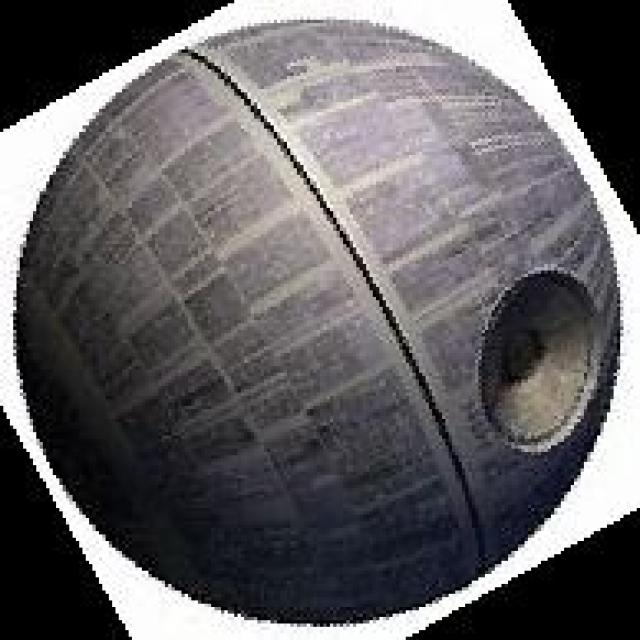Death Star: (22, 20, 623, 616)
